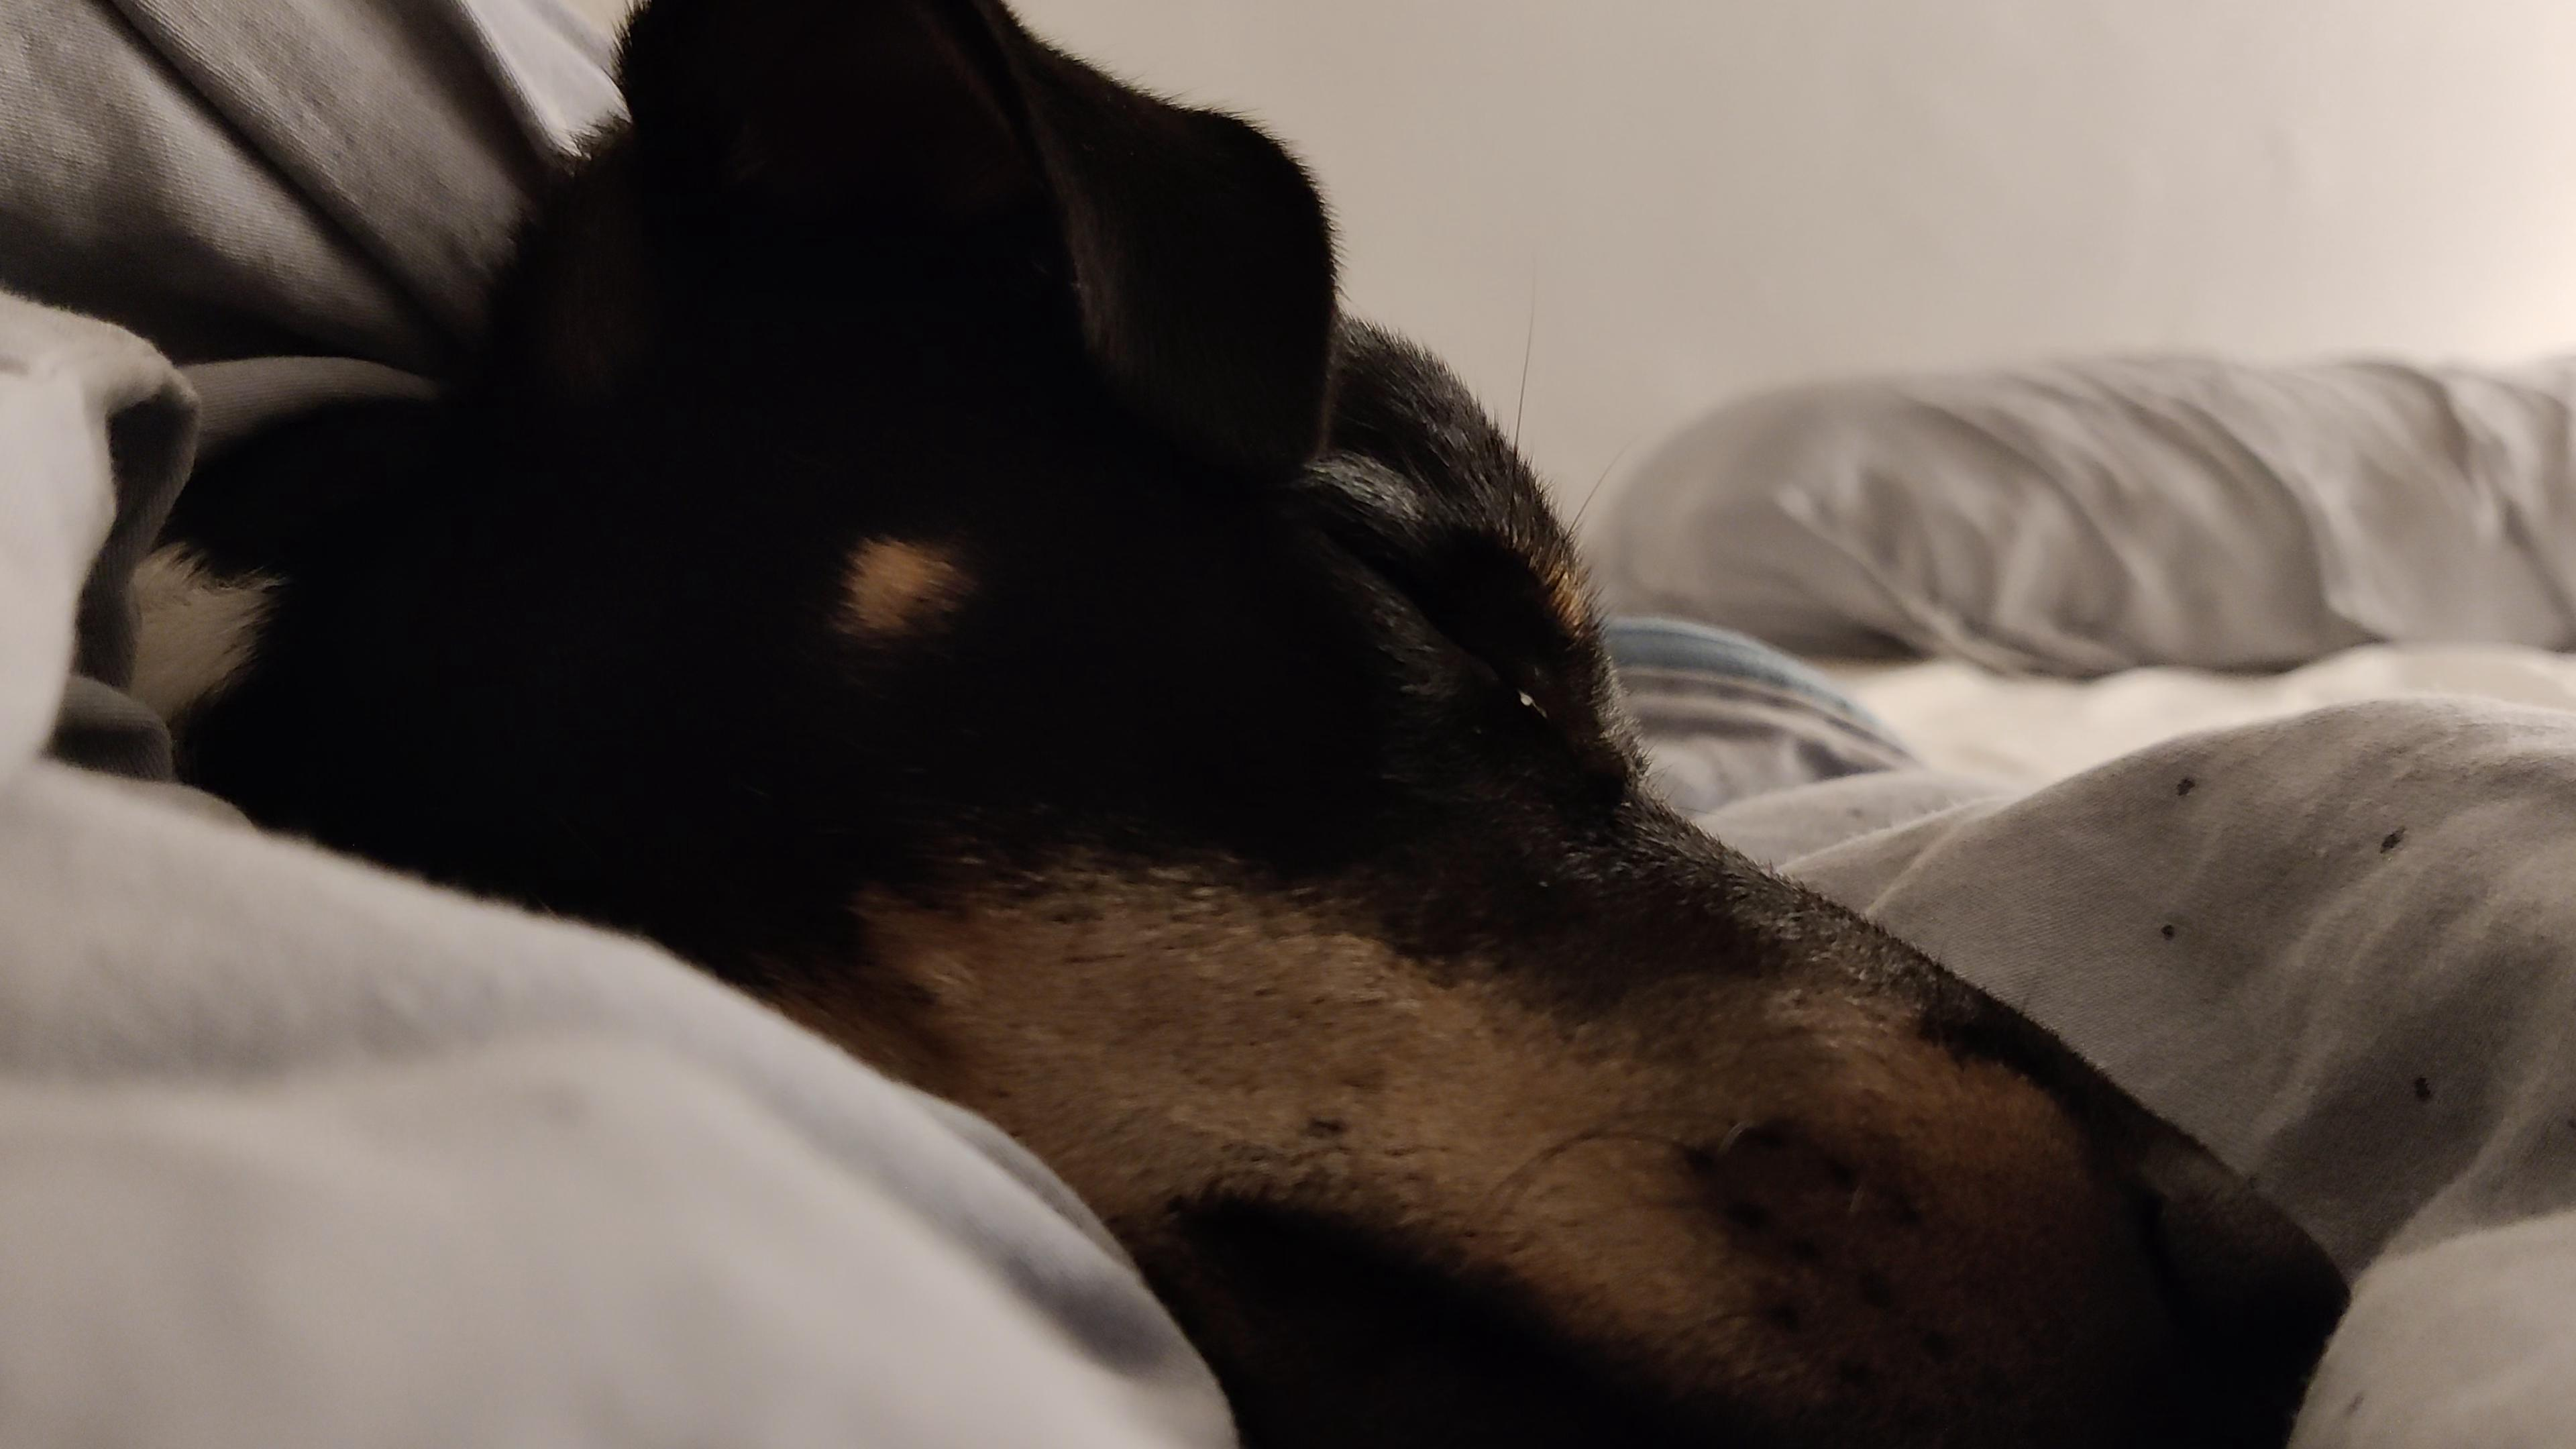Dog: (117, 0, 2367, 1449)
